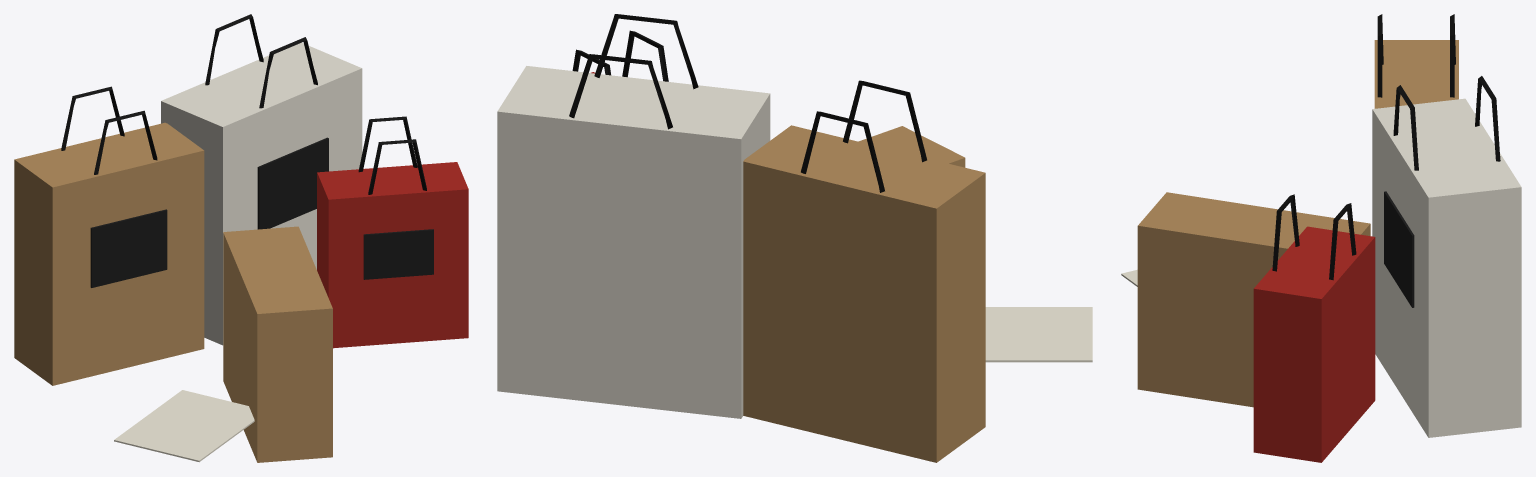
File: shopping_bags.glb
3 renders of one model, left to right at view 1: azimuth 30°, elevation 25°; view 2: azimuth 150°, elevation 25°; view 3: azimuth 270°, elevation 25°, orthographic. The views are drawn at different scales.
Parts seen in each view (by area): view 1: Bags; view 2: Bags; view 3: Bags.
Part boxes in pixels (box(x1,y1,x2,y2)): Bags: box(14, 14, 468, 462); Bags: box(497, 14, 1092, 462); Bags: box(1121, 14, 1521, 462).
Bounding box in the file's own units: 0.8259 × 0.6133 × 0.6643.
